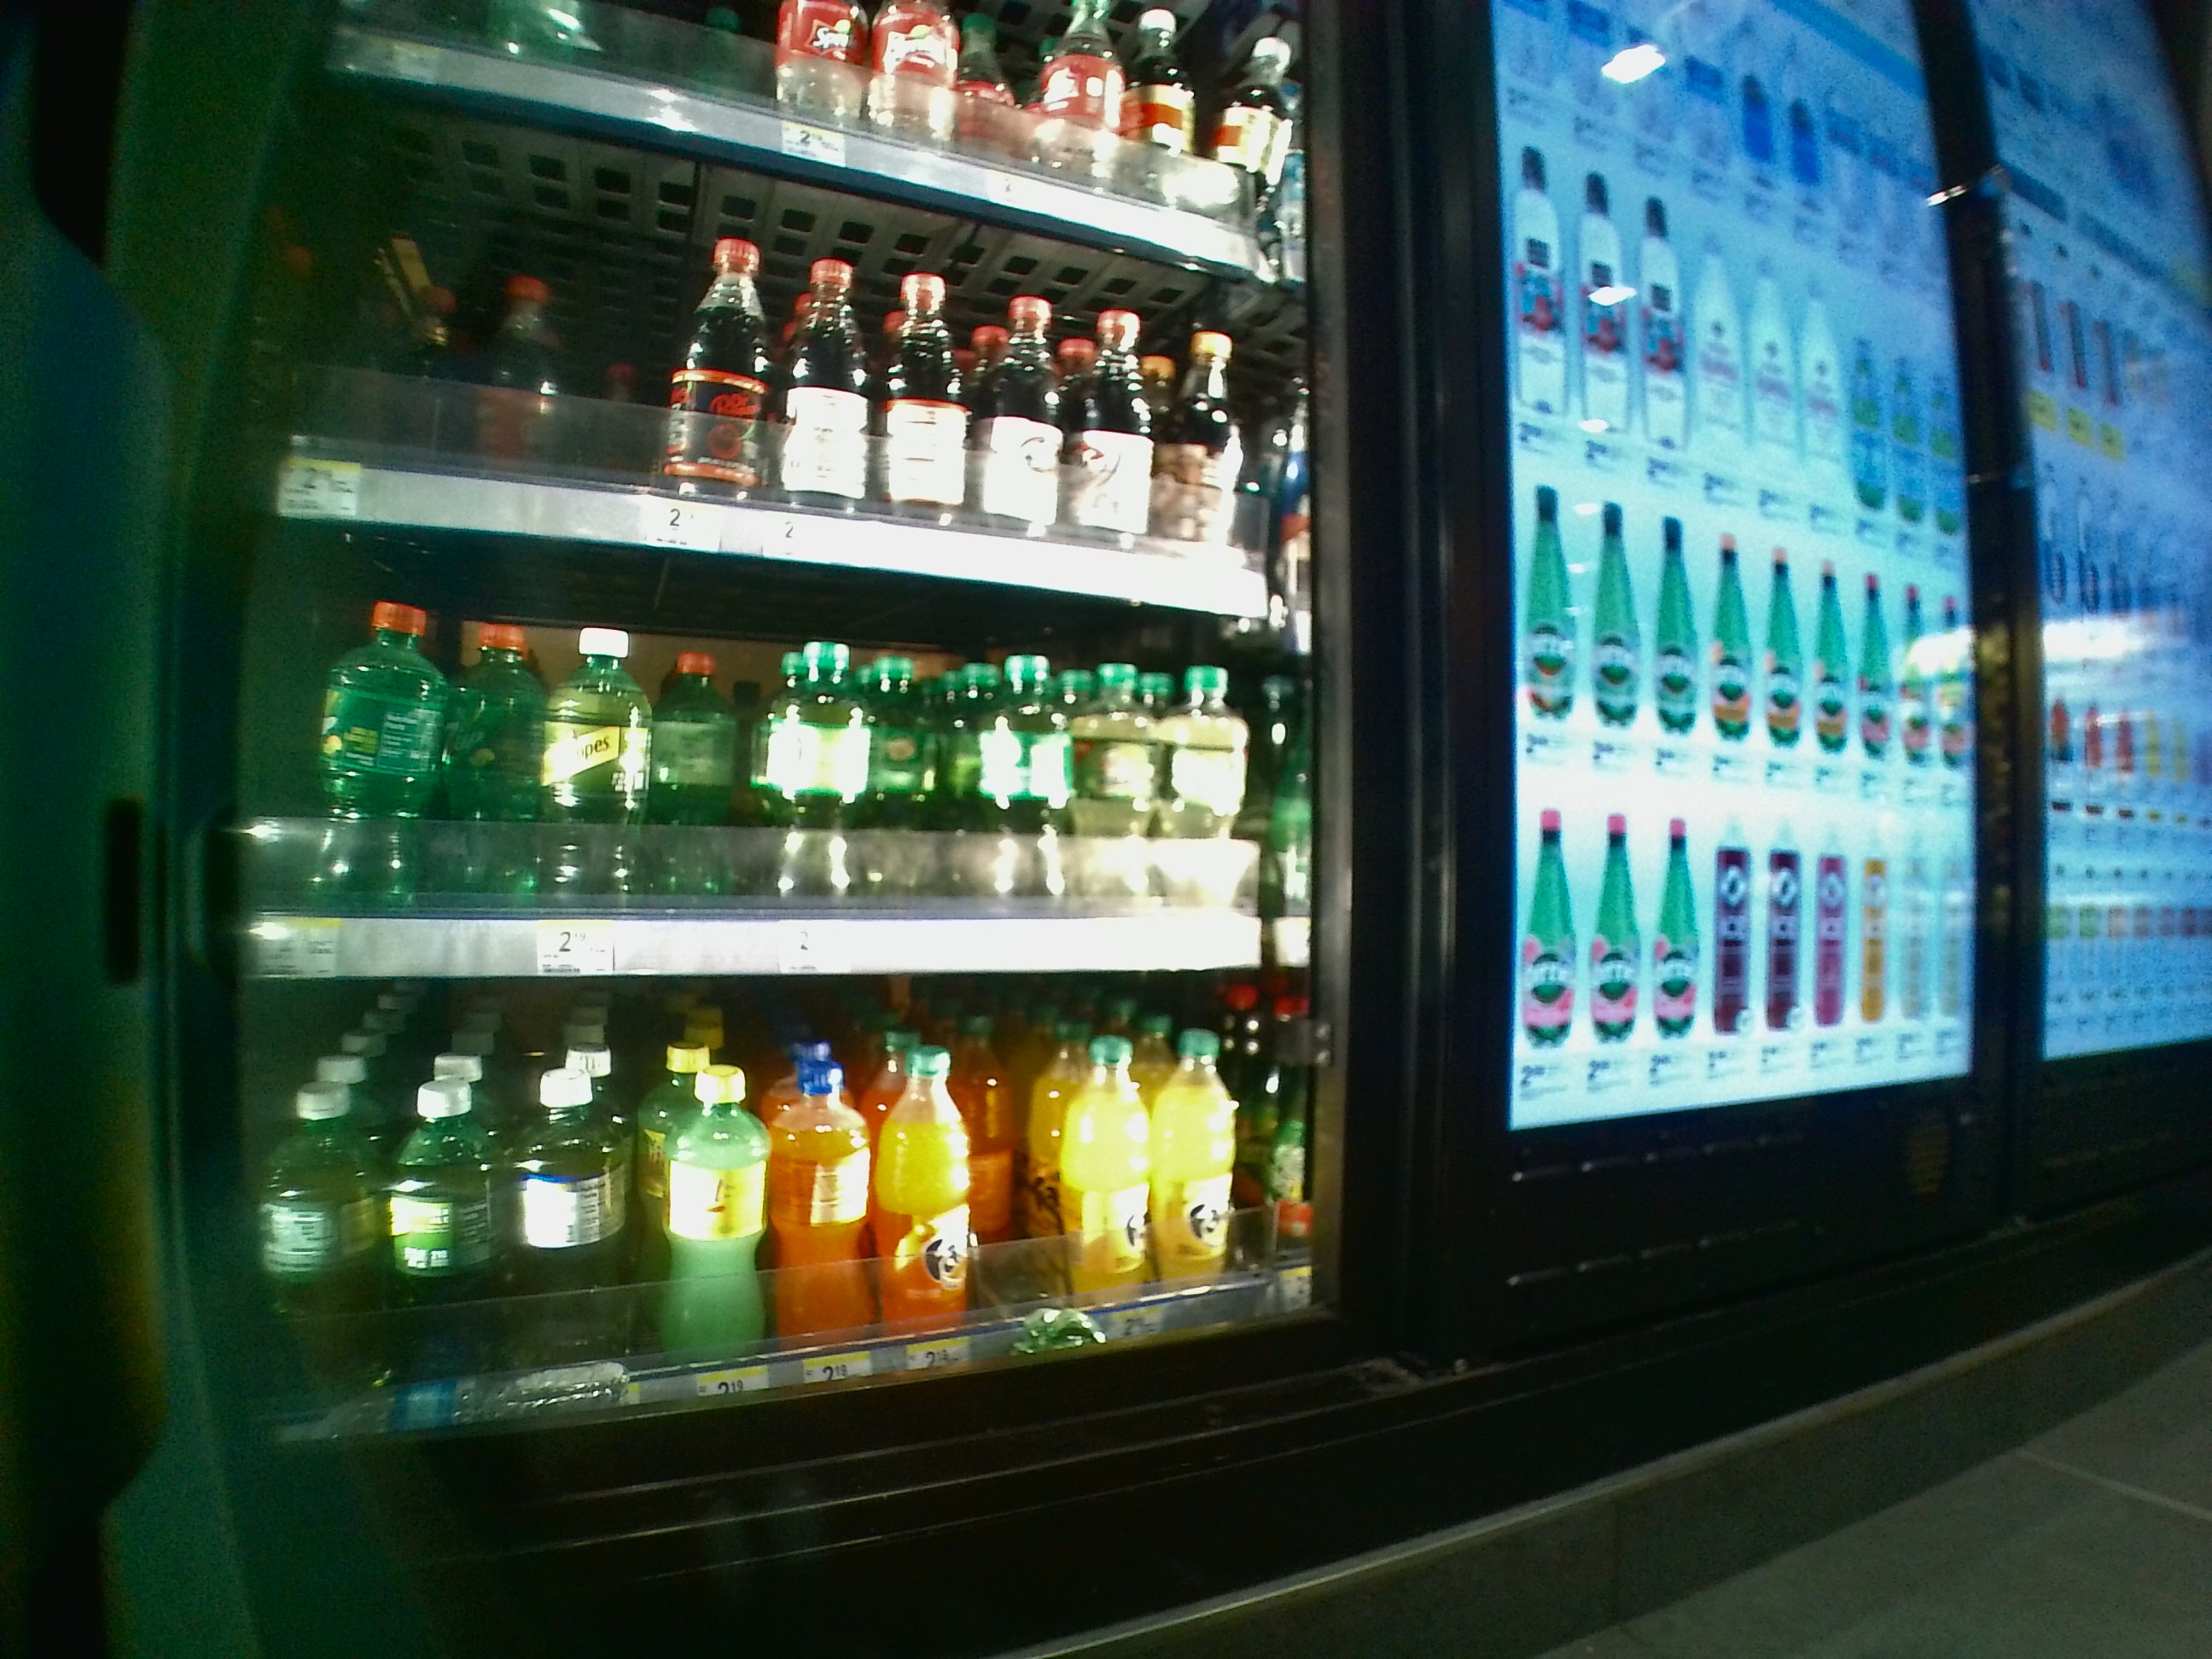shelf: (247, 997, 1313, 1384), (247, 605, 1298, 990)
